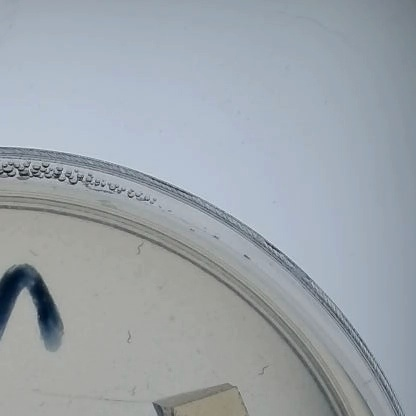worm: (258, 361, 270, 377), (136, 239, 145, 259), (123, 327, 133, 345), (128, 383, 139, 398)
